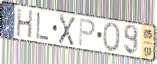9: (123, 24, 141, 57)
H: (15, 8, 34, 40)
L: (35, 11, 51, 42)
O: (102, 22, 121, 53)
P: (78, 17, 97, 48)
X: (58, 13, 77, 48)
